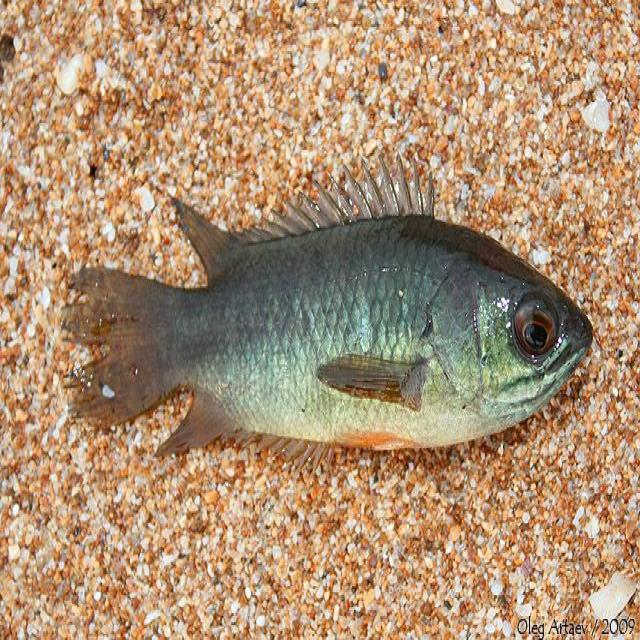Climbing-Perch: (26, 131, 616, 523)
